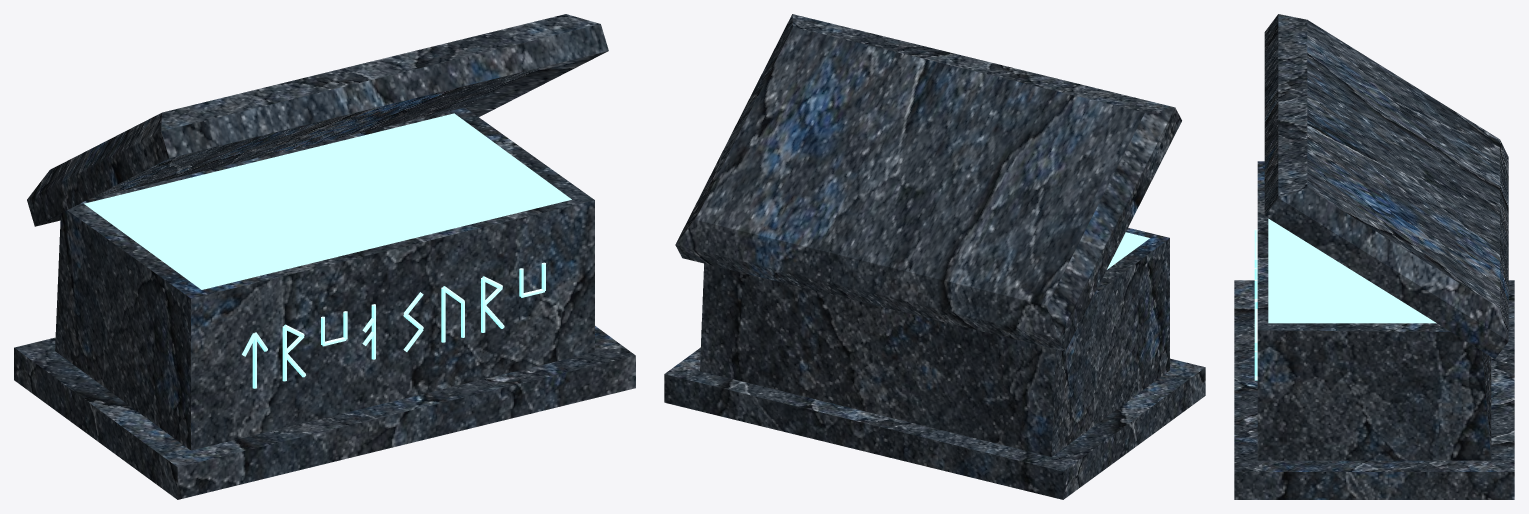
The model's file is PurchaseChest-local.glb.
The picture shows the model from 3 angles, left to right: view 1: azimuth 30°, elevation 25°; view 2: azimuth 150°, elevation 25°; view 3: azimuth 270°, elevation 25°; orthographic projection. The views are drawn at different scales.
Visible parts, largest first — view 1: pCube1, bossChest_innerGlow, lid, bossChest_treasure_runes; view 2: lid, pCube1; view 3: lid, pCube1, bossChest_innerGlow, bossChest_treasure_runes.
Part boxes in pixels (<box>): pCube1: <box>14,107,635,499</box>; bossChest_innerGlow: <box>84,113,571,289</box>; lid: <box>27,14,608,226</box>; bossChest_treasure_runes: <box>242,262,545,388</box>; lid: <box>675,14,1181,351</box>; pCube1: <box>664,227,1205,499</box>; lid: <box>1264,14,1508,358</box>; pCube1: <box>1234,161,1514,499</box>; bossChest_innerGlow: <box>1268,218,1436,323</box>; bossChest_treasure_runes: <box>1254,229,1257,380</box>.
Bounding box in the file's own units: 0.0785 × 0.0572 × 0.0486.
3 materials, 1 textured.
